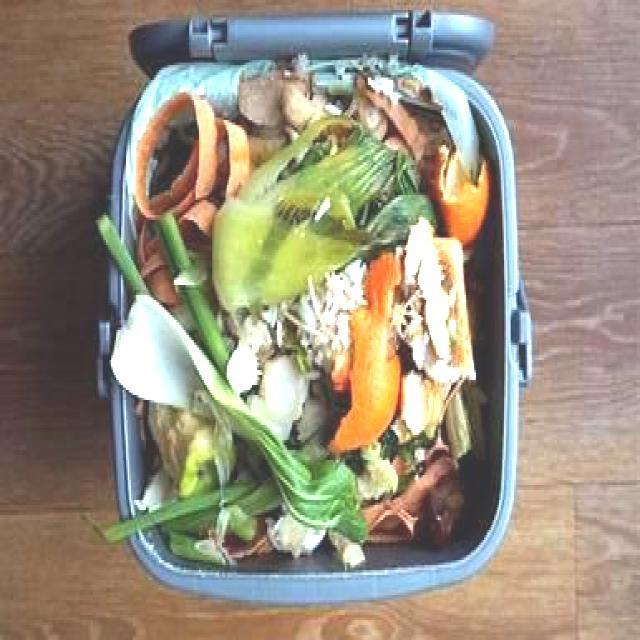Garbage: (118, 72, 498, 571)
